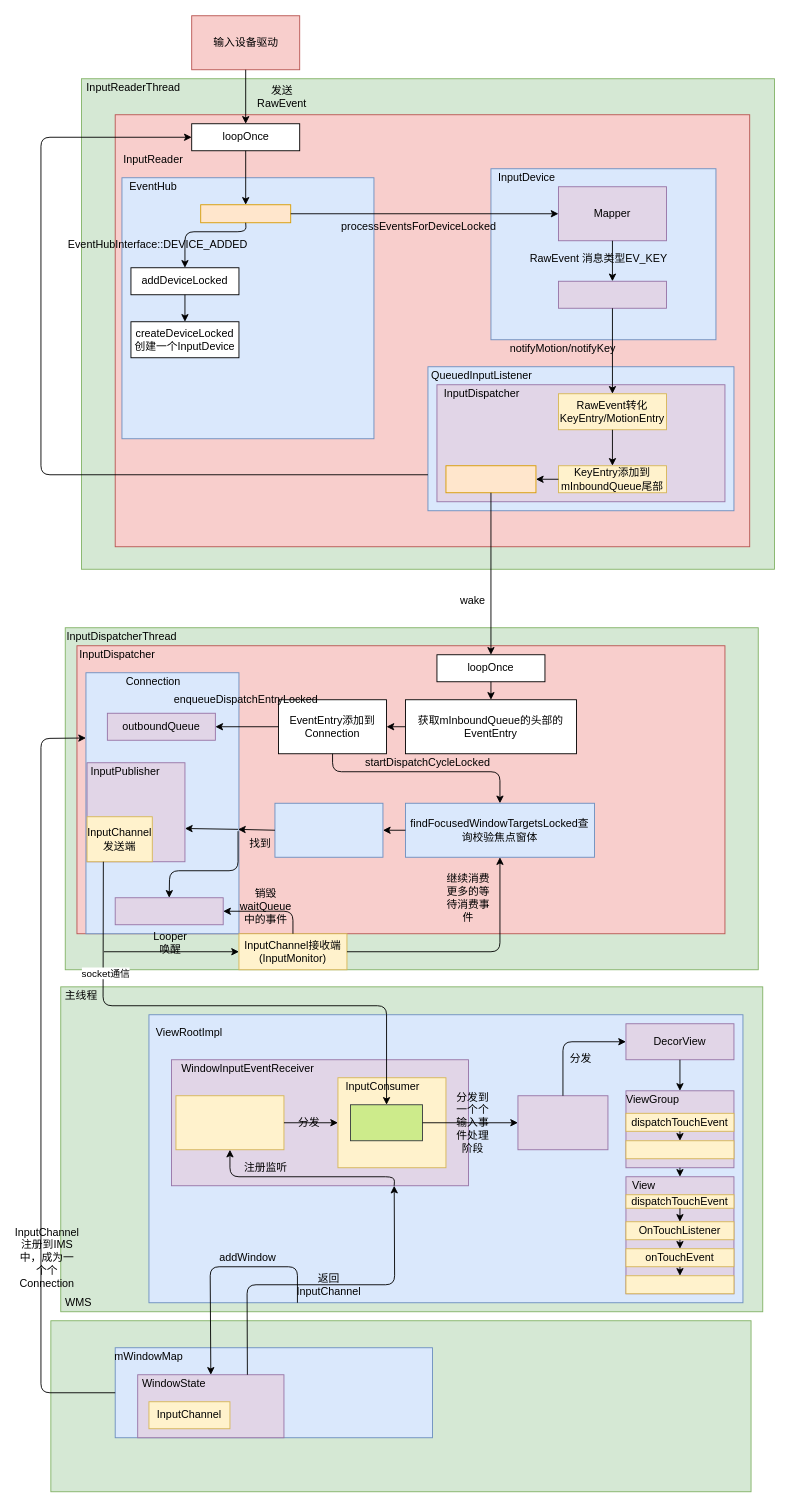
The diagram is 790 pixels wide and 1508 high, and some of its shapes have lost their labels. Each missing label, with the centre of its shape:
"getEvent" belongs at pixel 245 213.
"InputChannel接收端" belongs at pixel 386 1122.
"InputStage" belongs at pixel 562 1122.
"Looper" belongs at pixel 490 479.
"mConnectionsByFd通过InputHandle中的InputChannel的fd" belongs at pixel 328 829.
"OnClickListener" belongs at pixel 679 1284.
"onInterceptTouchEvent" belongs at pixel 679 1149.
"process转化为NotifyKeyArgs" belongs at pixel 612 294.
"waitQueue" belongs at pixel 168 911.
"主线程Looper" belongs at pixel 229 1122.
